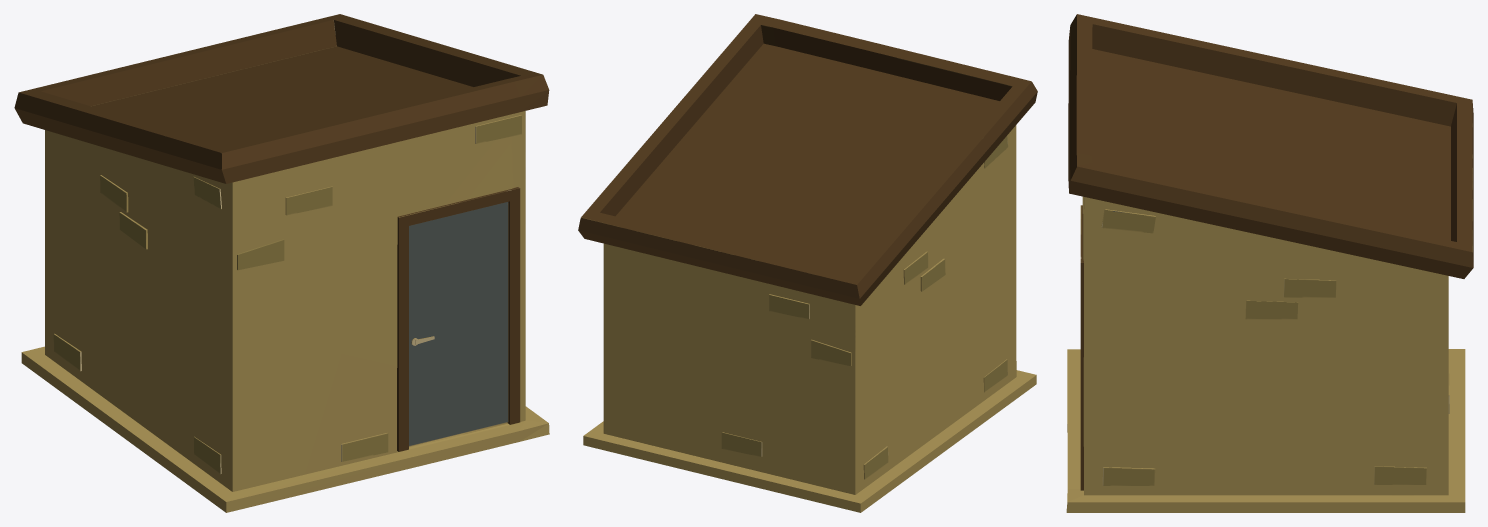
File: BLD0510001.FBX
3 views of the same model, side by side, from view 1: azimuth 30°, elevation 25°; view 2: azimuth 150°, elevation 25°; view 3: azimuth 270°, elevation 25° (orthographic). The views are drawn at different scales.
Visible parts, largest first — view 1: smBLD0510001; view 2: smBLD0510001; view 3: smBLD0510001.
Boxes of the visible parts, x1,y1,x2,y2 form: smBLD0510001: (14, 14, 549, 512); smBLD0510001: (578, 14, 1037, 512); smBLD0510001: (1066, 14, 1473, 512).
Size of the model in its own units: 114 by 119 by 126.
1 material, 1 textured.
